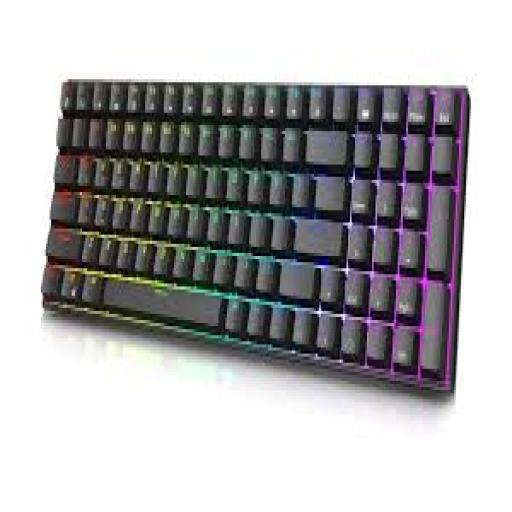KEYBOARD-2: (41, 79, 466, 390)
